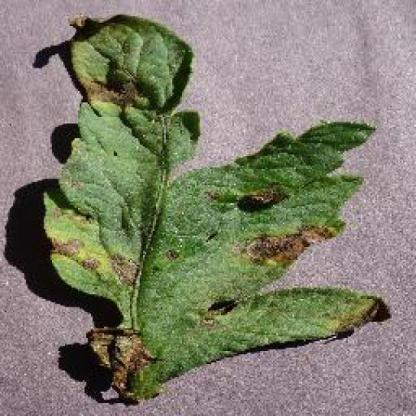Tomato_Blight: (41, 19, 383, 398)
